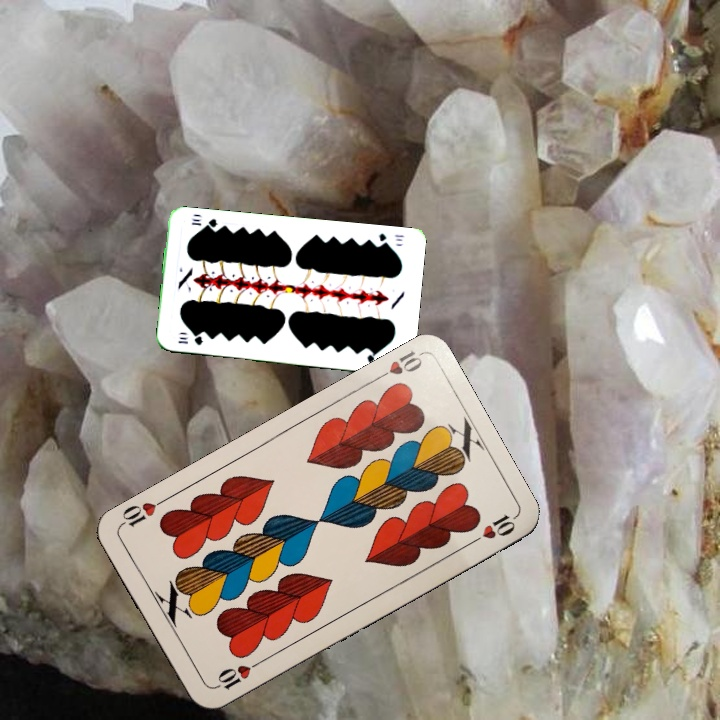G10: (375, 229, 407, 248), (174, 332, 205, 348)
H10: (370, 347, 425, 384), (210, 656, 264, 692)
